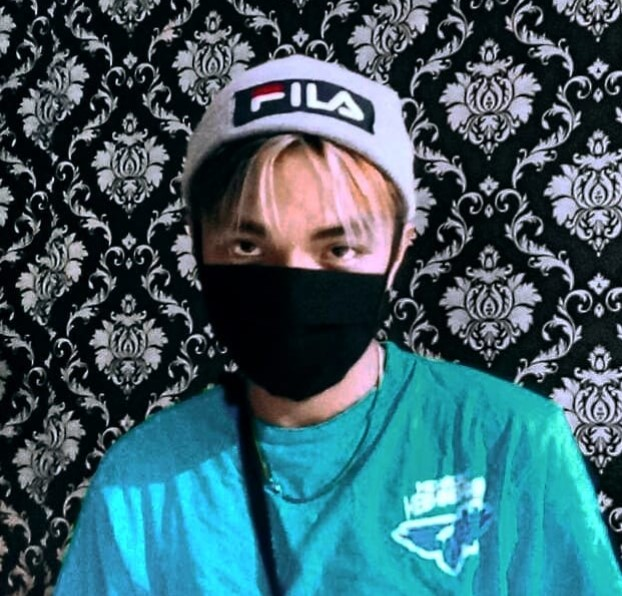face_with_mask: (178, 55, 419, 404)
